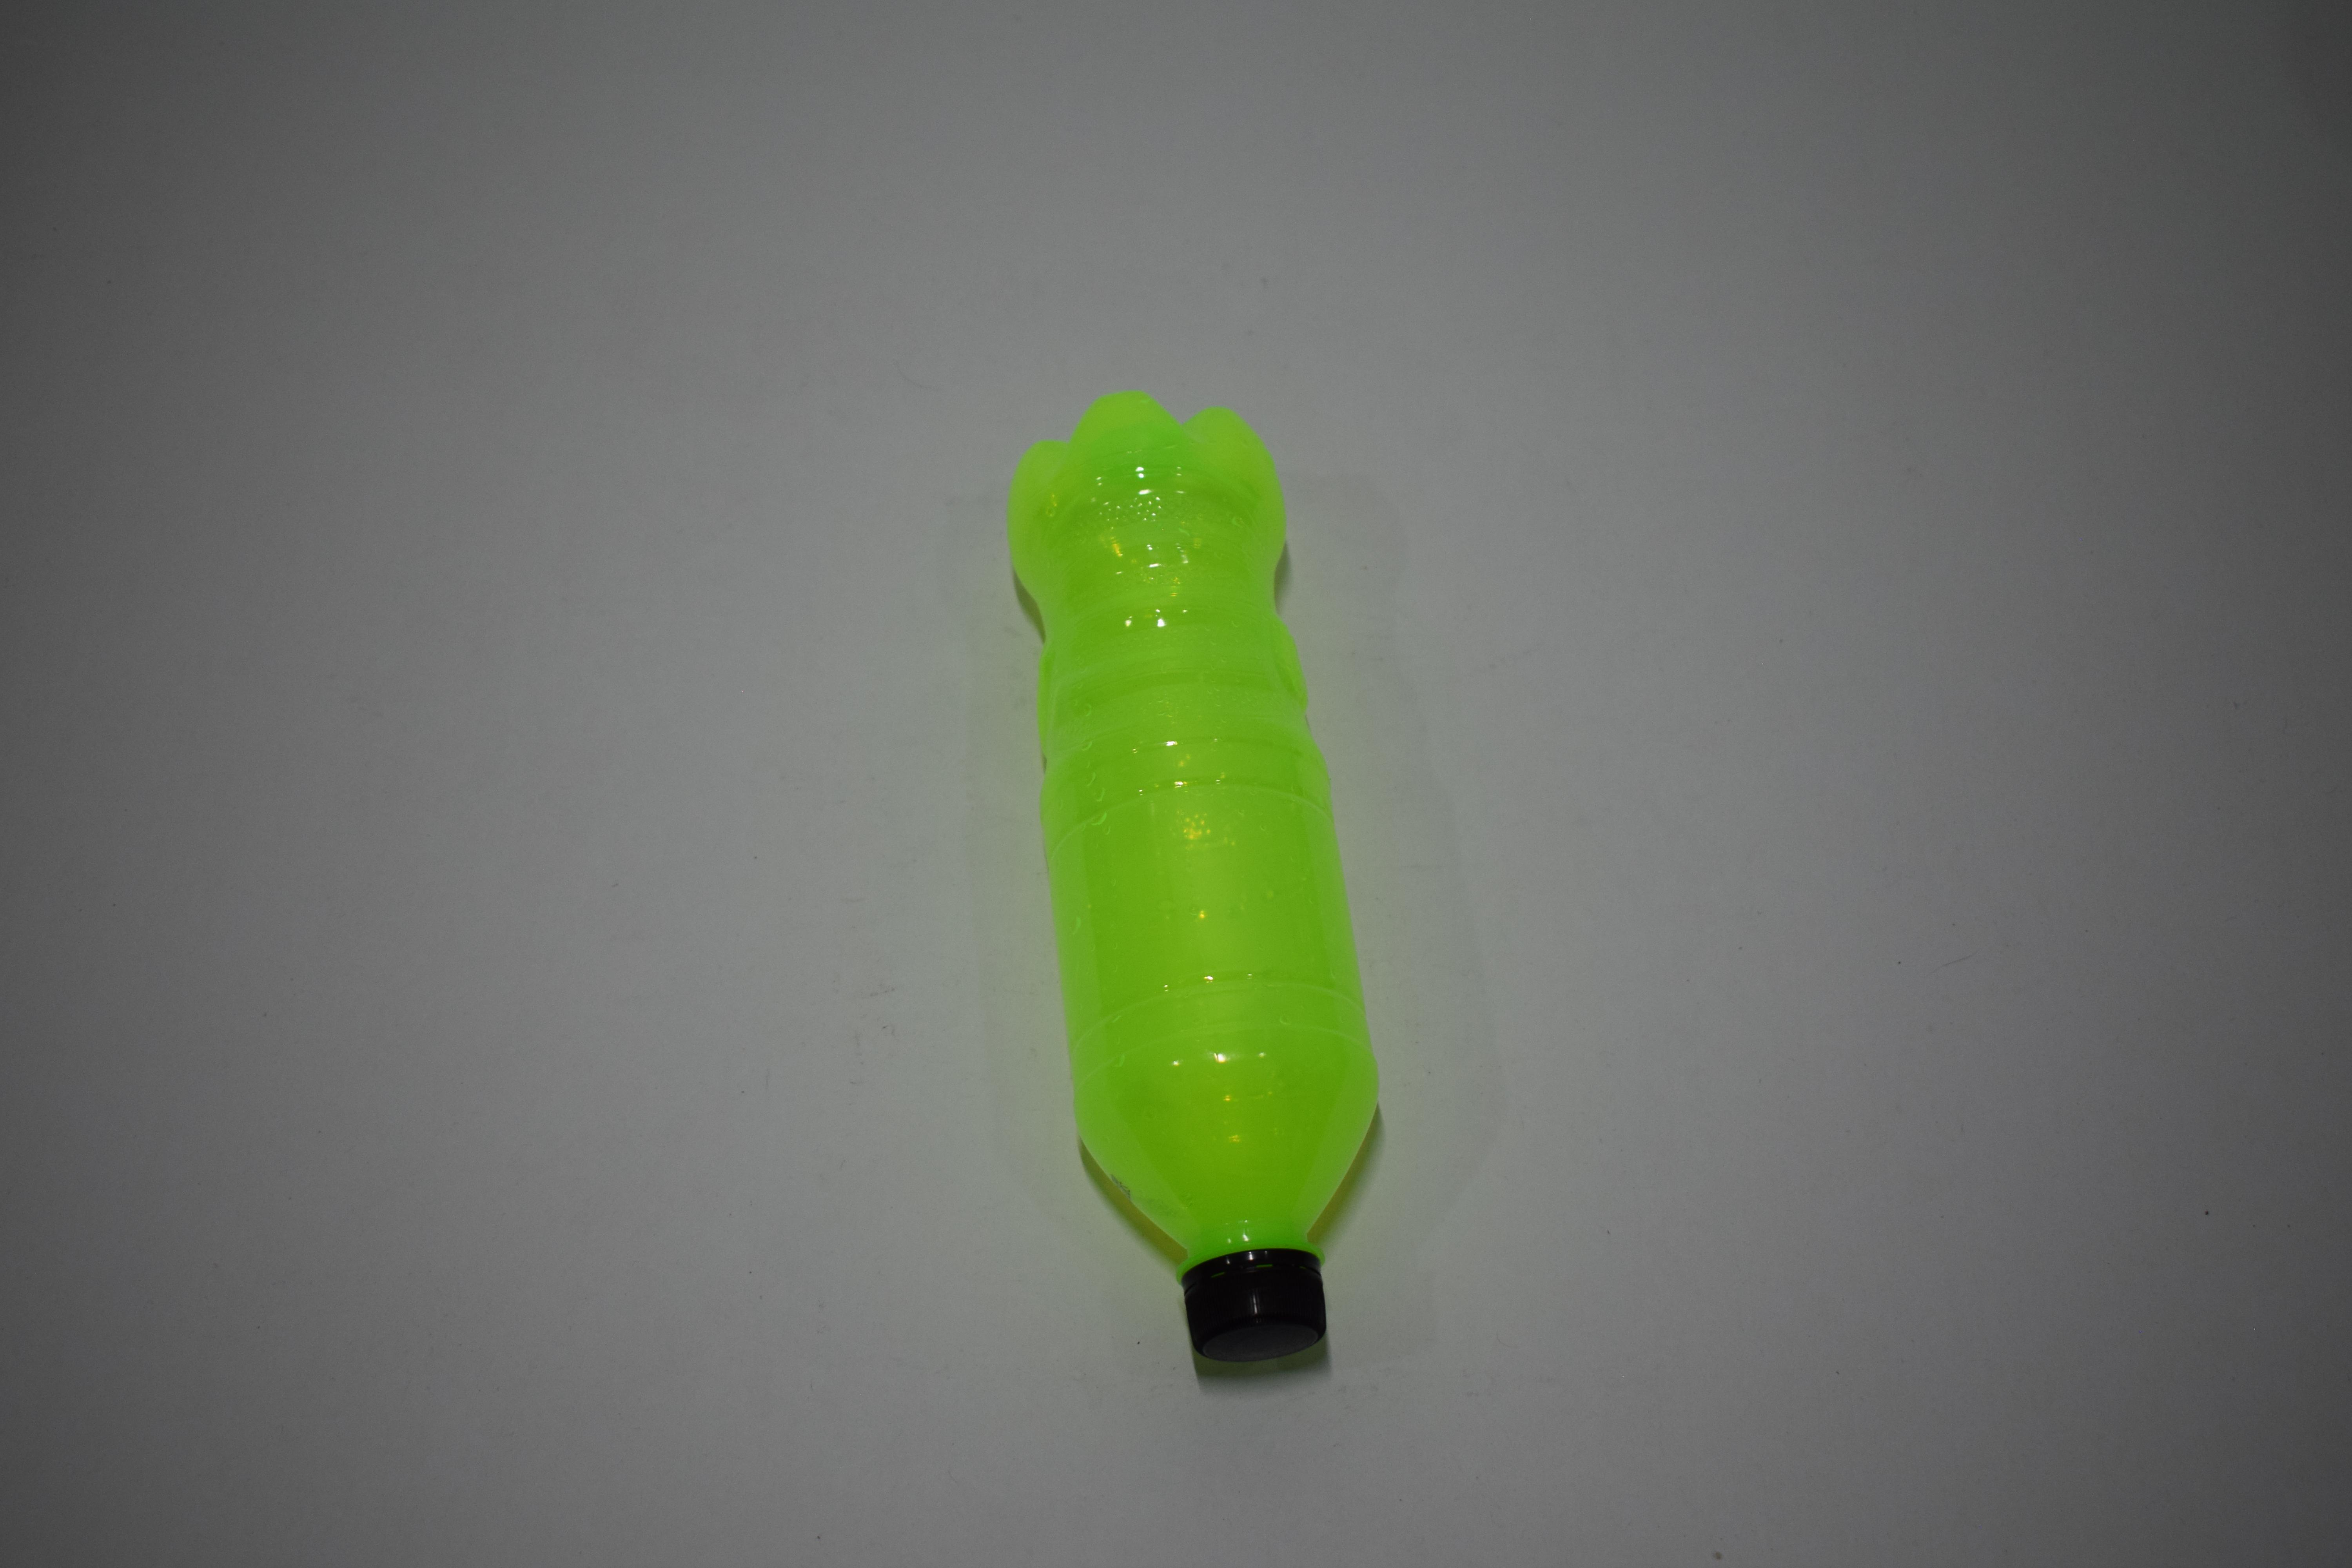bottle: (0, 0, 215, 598)
